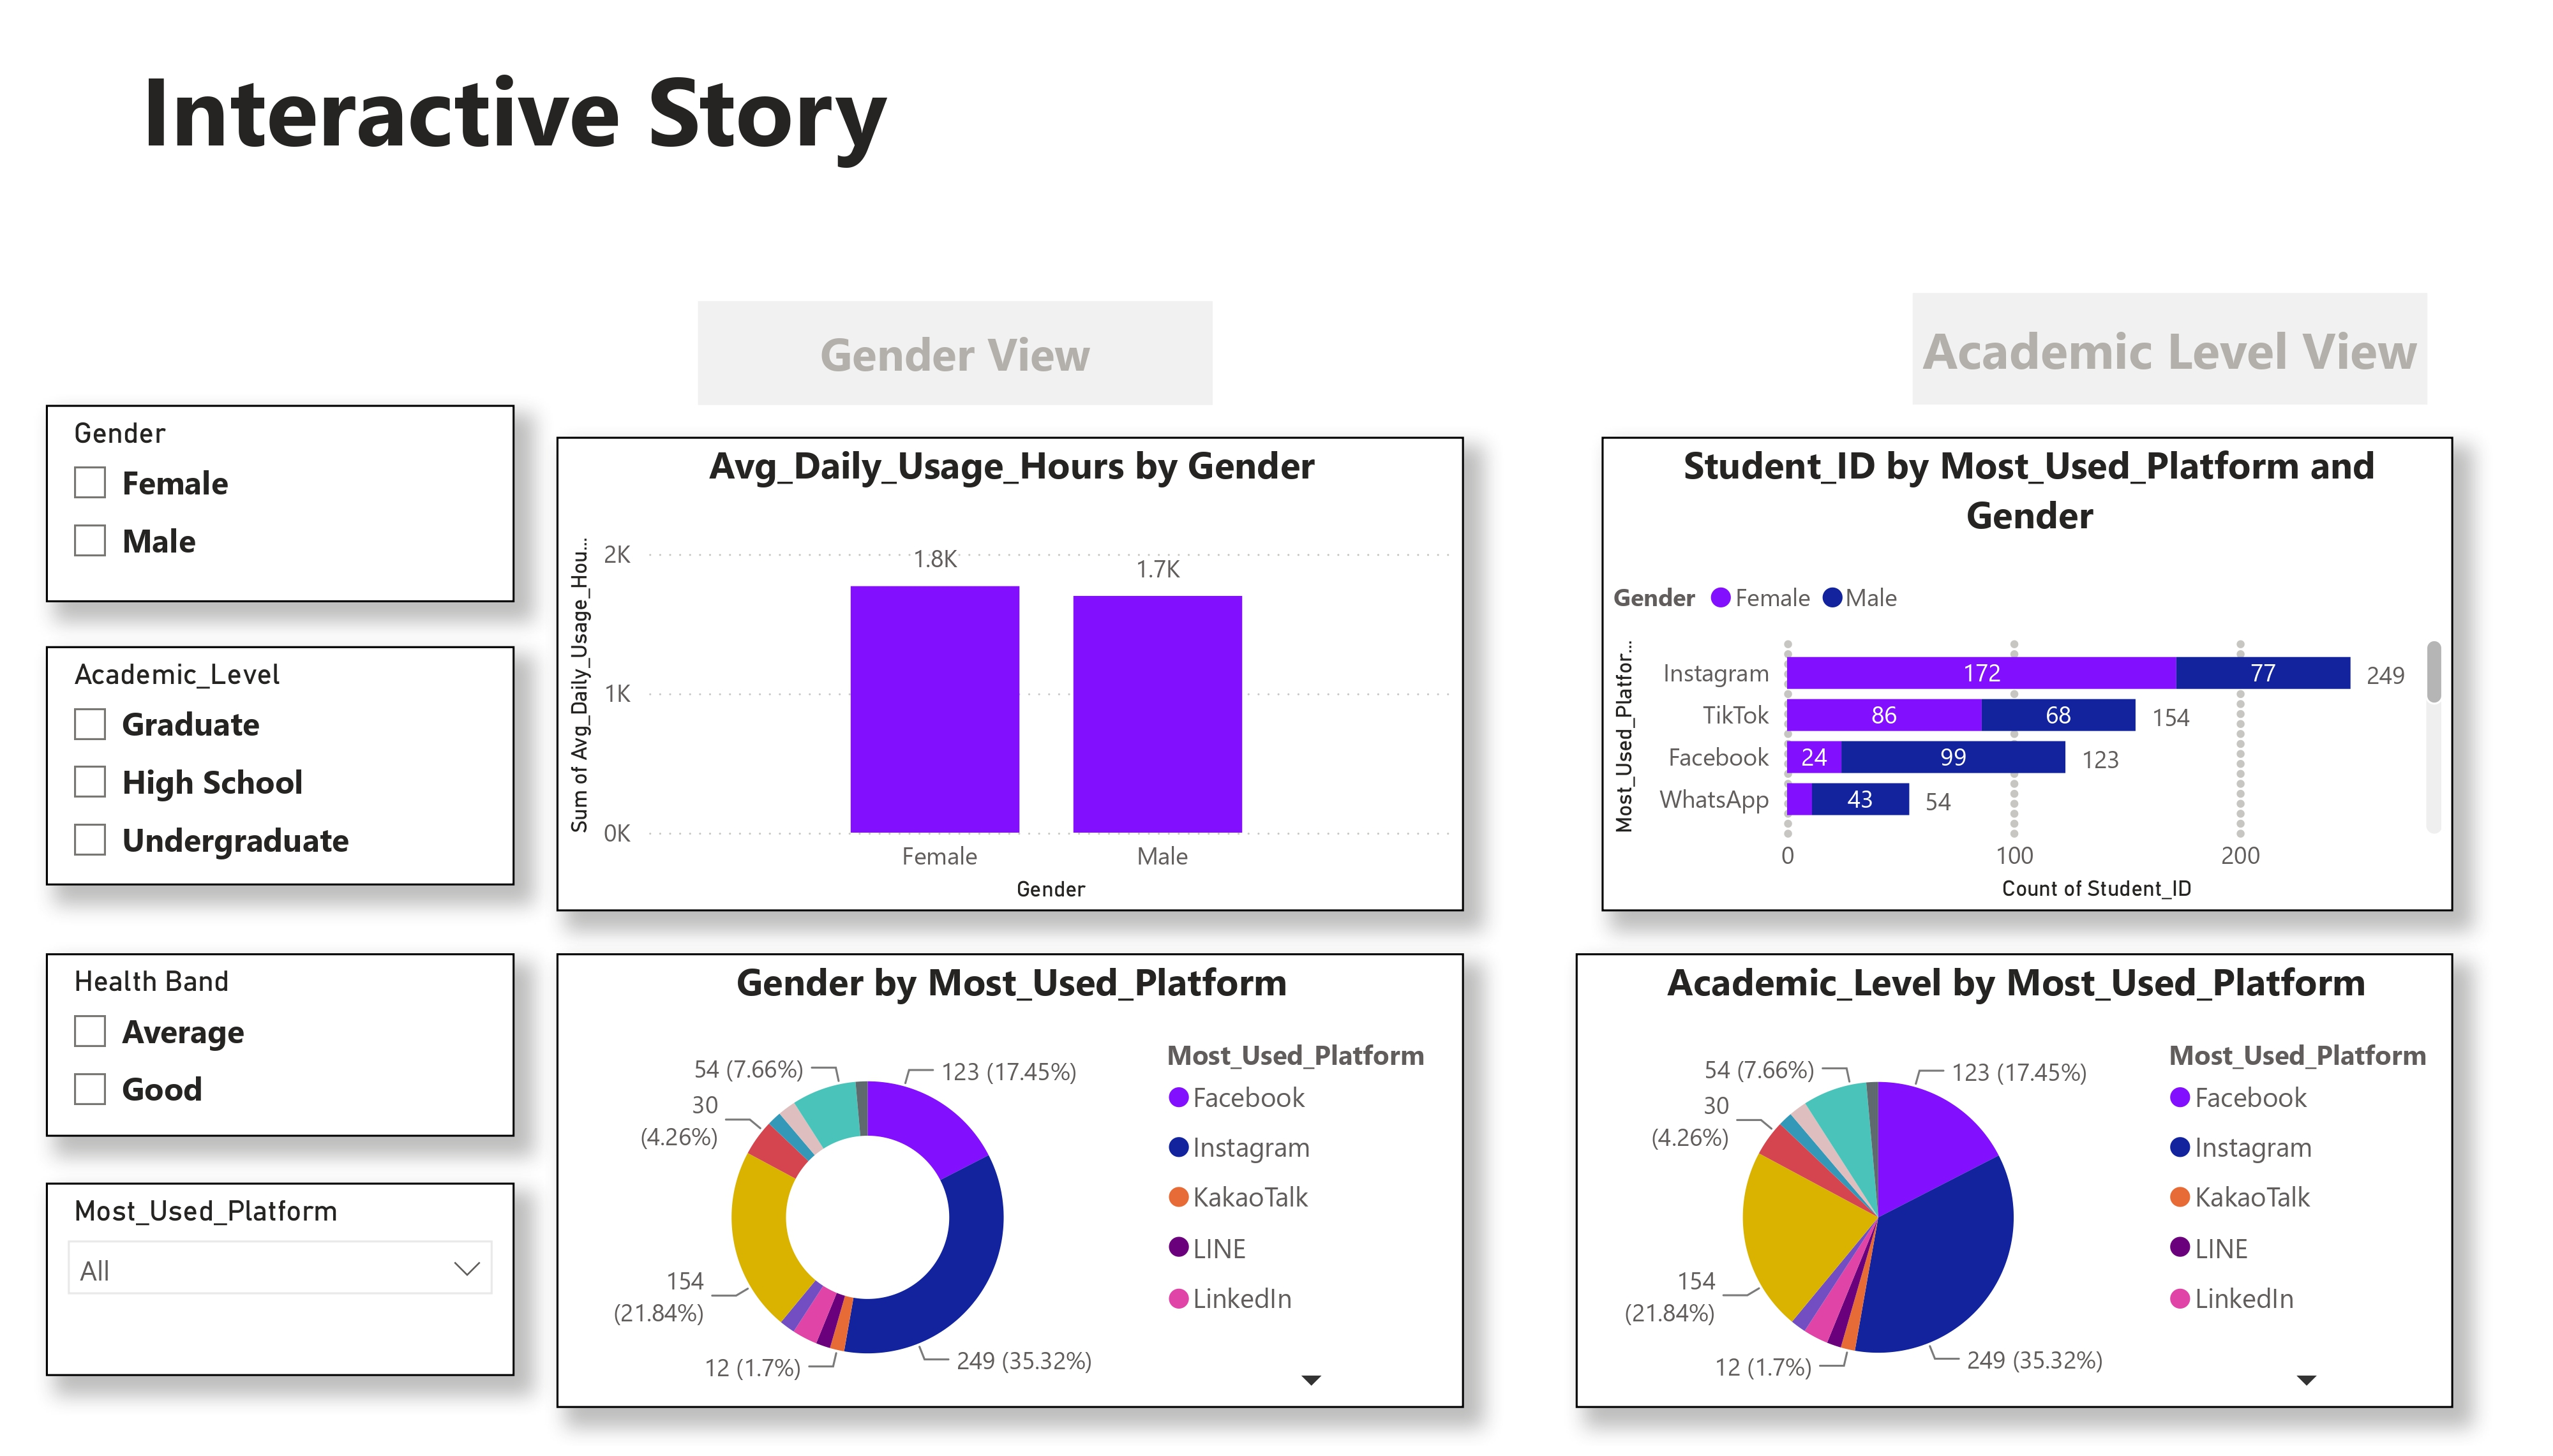

Layout of this report page (visuals, bound fields, positions):
{"tool":"powerbi","page":{"name":"Interactive Story","canvas":[1280,720],"ordinal":4},"visuals":[{"type":"clusteredColumnChart","title":" Avg_Daily_Usage_Hours by Gender","fields":{"Category":["Student Details.Gender"],"Y":["Sum(Platform Details.Avg_Daily_Usage_Hours)"]},"box":[278.5,213.7,455,238],"z":0},{"type":"barChart","title":" Student_ID by Most_Used_Platform and Gender","fields":{"Category":["Platform Details.Most_Used_Platform"],"Series":["Student Details.Gender"],"Y":["CountNonNull(Platform Details.Student_ID)"]},"box":[803.1,213.7,427.5,238],"z":1000},{"type":"actionButton","box":[349.8,145.7,258.1,52],"z":2000},{"type":"actionButton","box":[958.6,142.5,258.1,55.8],"z":3000},{"type":"donutChart","title":" Gender by Most_Used_Platform","fields":{"Category":["Platform Details.Most_Used_Platform"],"Y":["CountNonNull(Student Details.Gender)"]},"box":[278.5,472.8,455,228.3],"z":4000},{"type":"pieChart","title":"Academic_Level by Most_Used_Platform","fields":{"Category":["Platform Details.Most_Used_Platform"],"Y":["CountNonNull(Student Details.Academic_Level)"]},"box":[790.2,472.8,440.4,228.3],"z":5000},{"type":"textbox","box":[13,11.3,489.5,80.5],"z":5001},{"type":"slicer","fields":{"Values":["Student Details.Gender"]},"box":[22.7,197.5,234.8,98.8],"z":5002},{"type":"slicer","fields":{"Values":["Student Details.Academic_Level"]},"box":[22.7,319,234.8,119.8],"z":5003},{"type":"slicer","fields":{"Values":["Student Details.Health Band"]},"box":[22.7,472.8,234.8,92.3],"z":5004},{"type":"slicer","fields":{"Values":["Platform Details.Most_Used_Platform"]},"box":[22.7,587.8,234.8,97.2],"z":5005}]}

Visuals, with their boxes in screenshot pixels (x1, y1, x2, y2), scaled from the page's 1280x720 canvas onto the 2553x1456 screenshot:
" Avg_Daily_Usage_Hours by Gender" clusteredColumnChart: pyautogui.locateOnScreen(555, 432, 1463, 914)
" Student_ID by Most_Used_Platform and Gender" barChart: pyautogui.locateOnScreen(1602, 432, 2455, 914)
actionButton: pyautogui.locateOnScreen(698, 295, 1213, 400)
actionButton: pyautogui.locateOnScreen(1912, 288, 2427, 401)
" Gender by Most_Used_Platform" donutChart: pyautogui.locateOnScreen(555, 956, 1463, 1418)
"Academic_Level by Most_Used_Platform" pieChart: pyautogui.locateOnScreen(1576, 956, 2455, 1418)
textbox: pyautogui.locateOnScreen(26, 23, 1002, 186)
slicer - Student Details.Gender: pyautogui.locateOnScreen(45, 399, 514, 599)
slicer - Student Details.Academic_Level: pyautogui.locateOnScreen(45, 645, 514, 888)
slicer - Student Details.Health Band: pyautogui.locateOnScreen(45, 956, 514, 1143)
slicer - Platform Details.Most_Used_Platform: pyautogui.locateOnScreen(45, 1189, 514, 1385)
